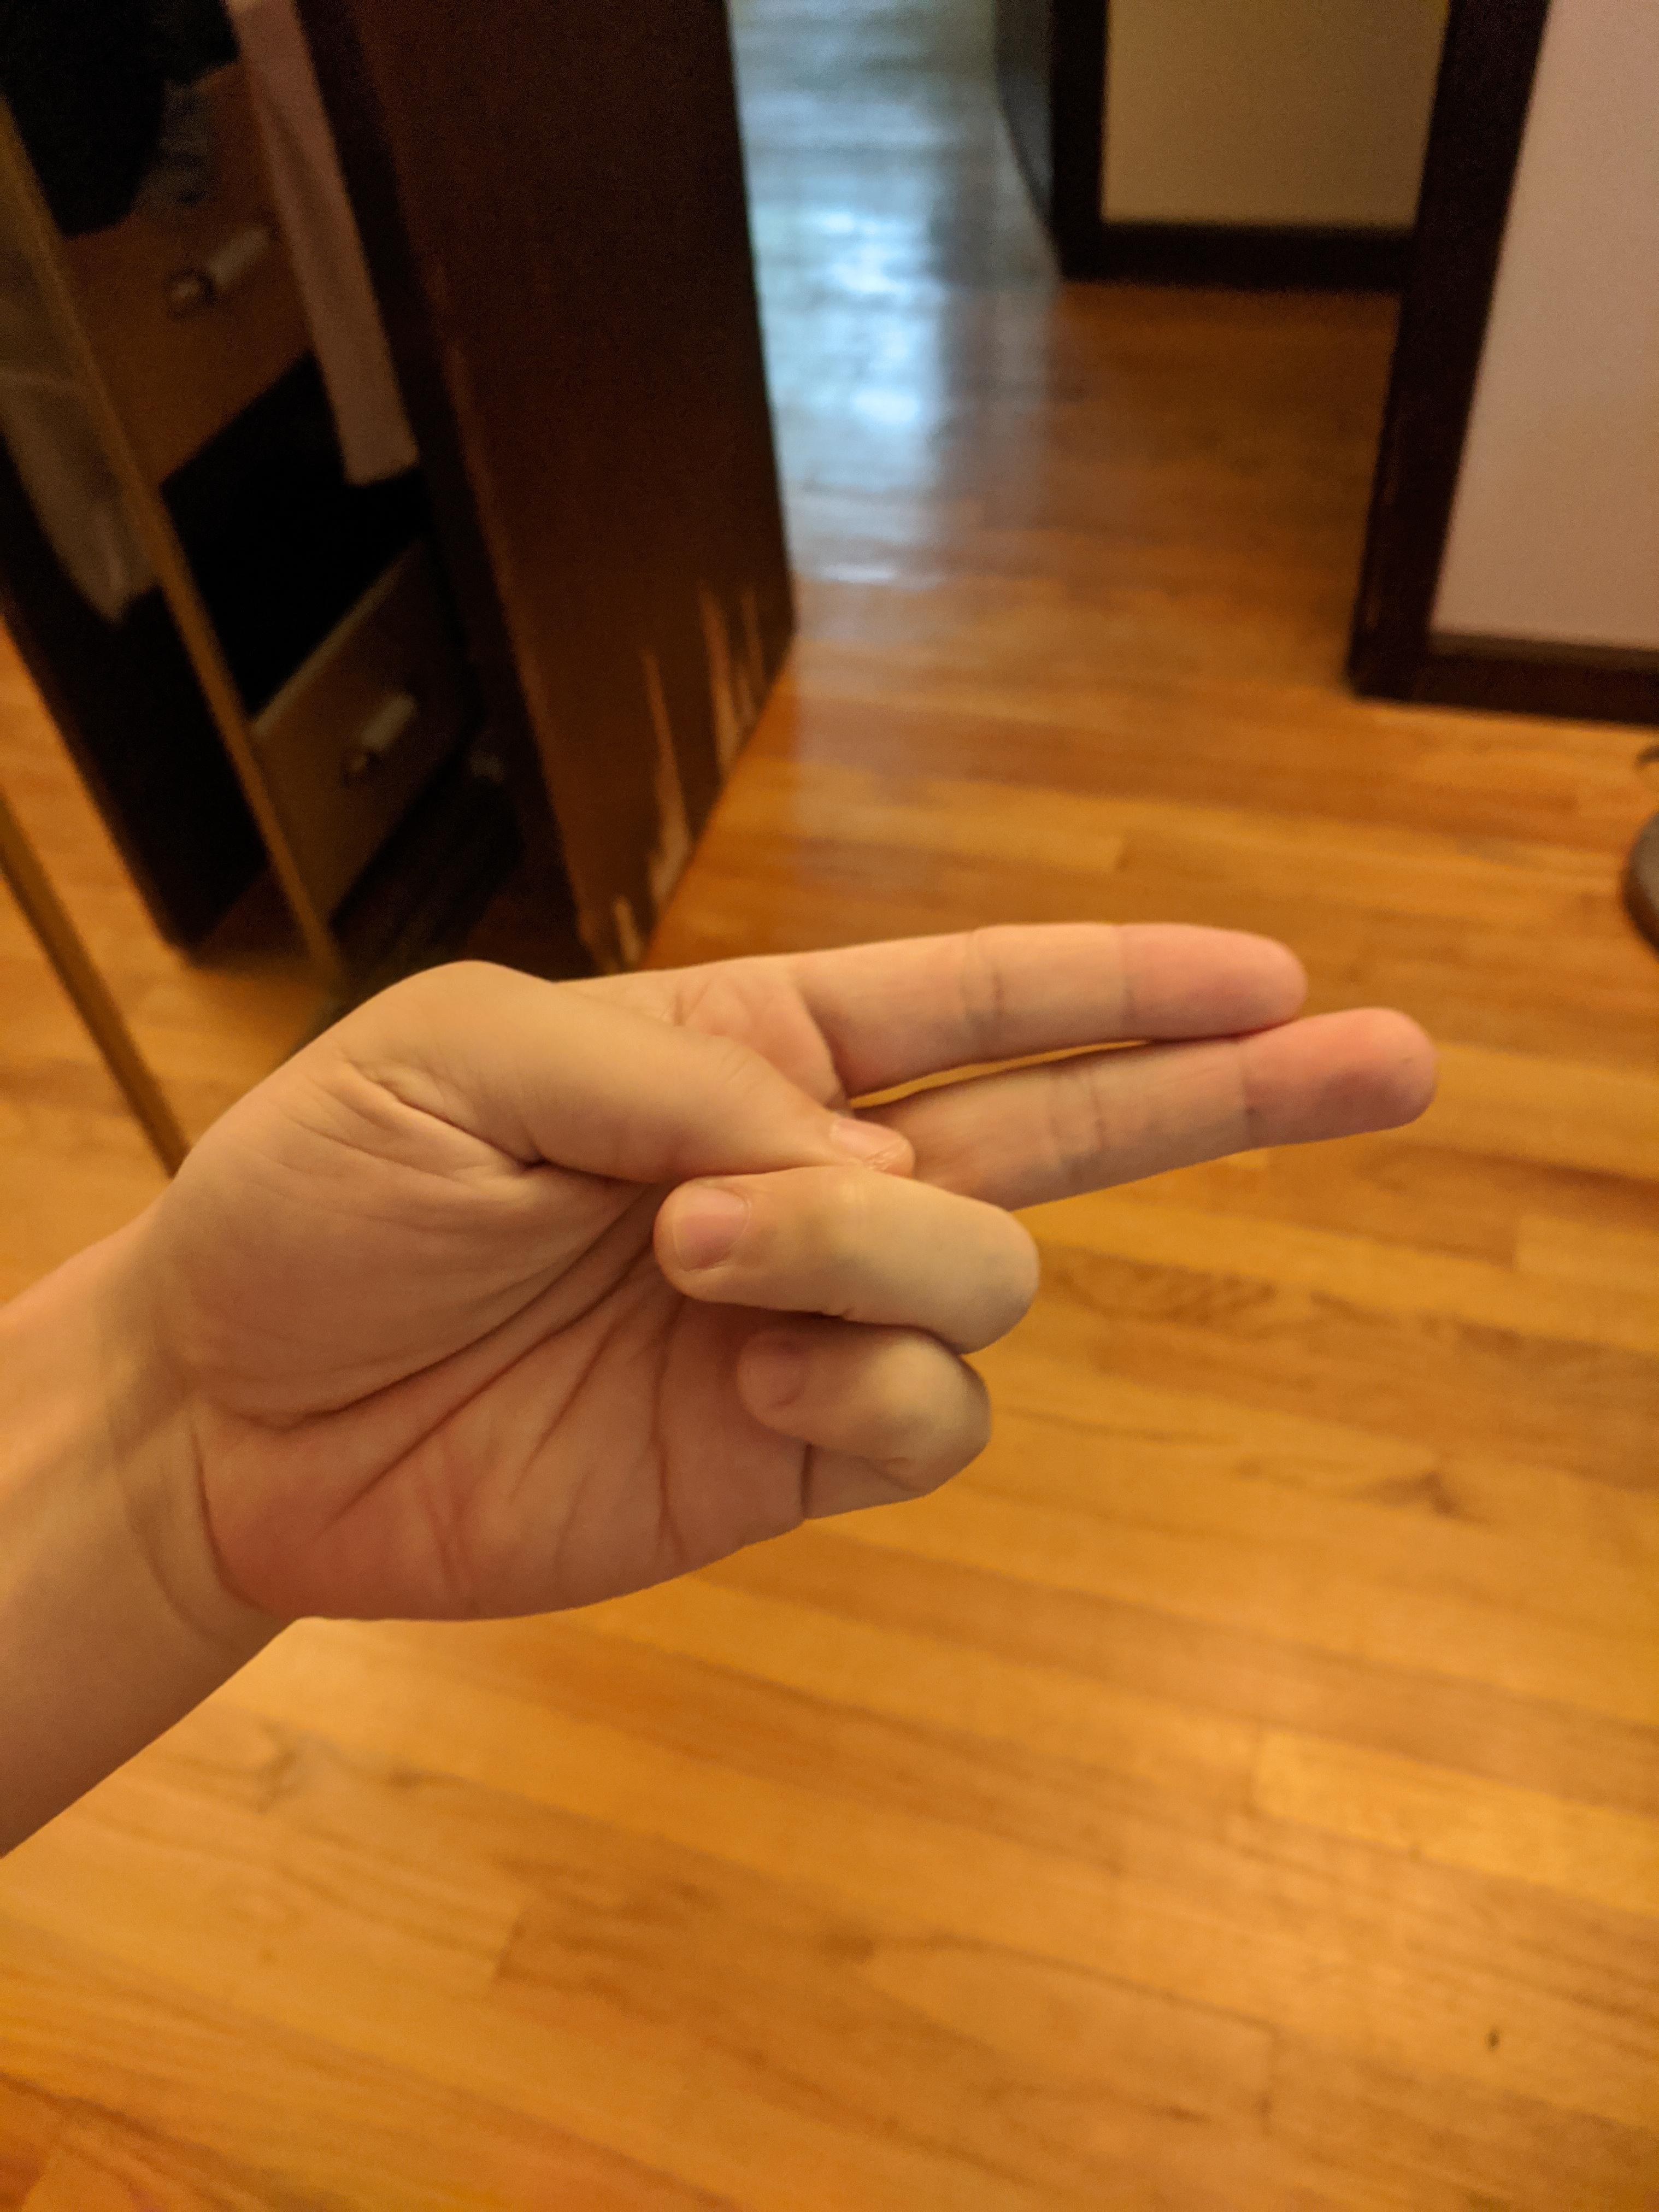H: (145, 895, 1467, 1646)
